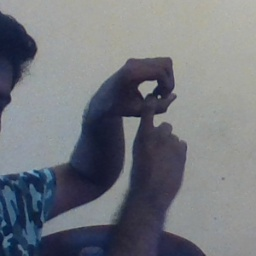Q: (98, 50, 194, 174)
